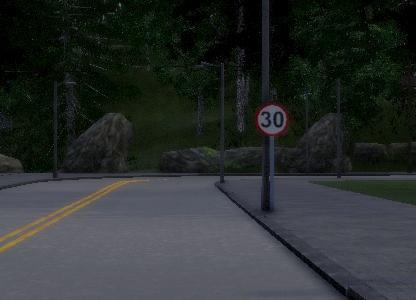Speed_30: (254, 102, 290, 137)
